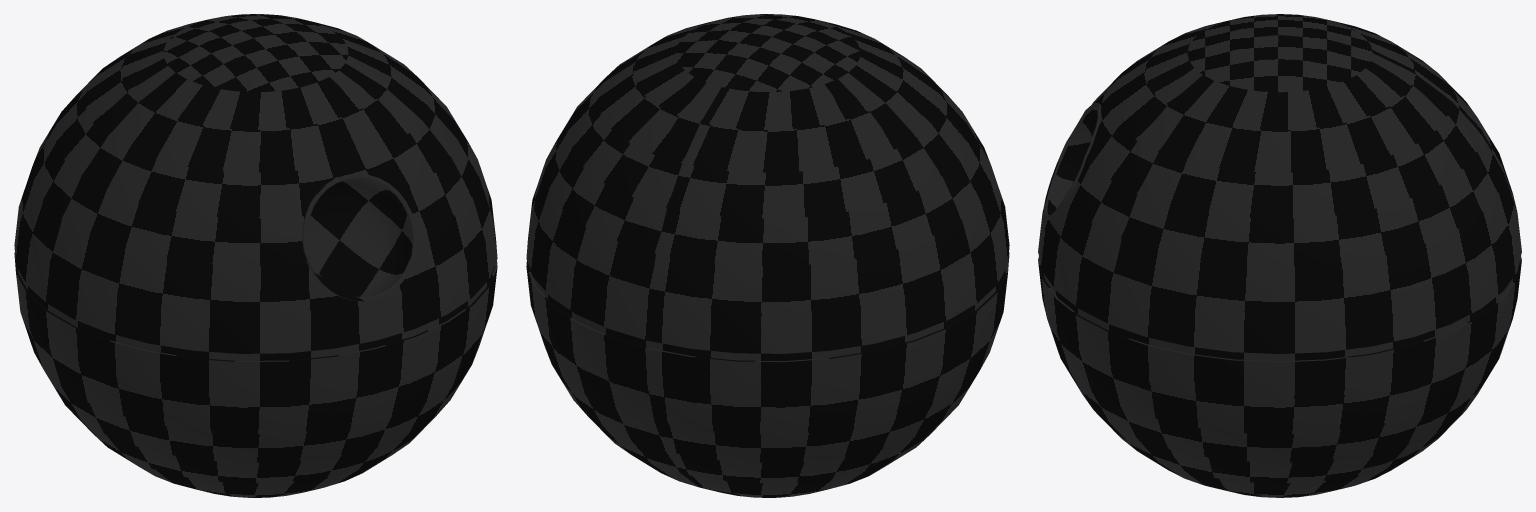
Rendered from deathStar.glb.
3 renders of one model, left to right at view 1: azimuth 30°, elevation 25°; view 2: azimuth 150°, elevation 25°; view 3: azimuth 270°, elevation 25°, orthographic.
Parts seen in each view (by area): view 1: deathstar, Death_Star_02___Default_0, Death_Star_07___Default_0; view 2: deathstar; view 3: deathstar, Death_Star_02___Default_0, Death_Star_07___Default_0.
Boxes of the visible parts, x1,y1,x2,y2 form: deathstar: (14,14,497,497); Death_Star_02___Default_0: (306,178,412,296); Death_Star_07___Default_0: (302,173,417,301); deathstar: (526,14,1009,497); deathstar: (1038,14,1521,497); Death_Star_02___Default_0: (1047,108,1097,215); Death_Star_07___Default_0: (1043,103,1100,220).
Size of the model in its own units: 213 by 213 by 213.
1 material, 1 textured.
